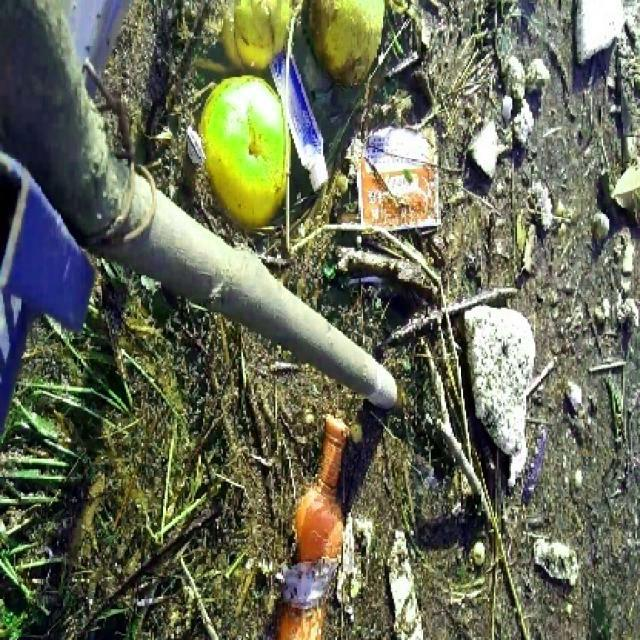Plastic: (270, 417, 364, 640)
Trash: (356, 126, 438, 237)
